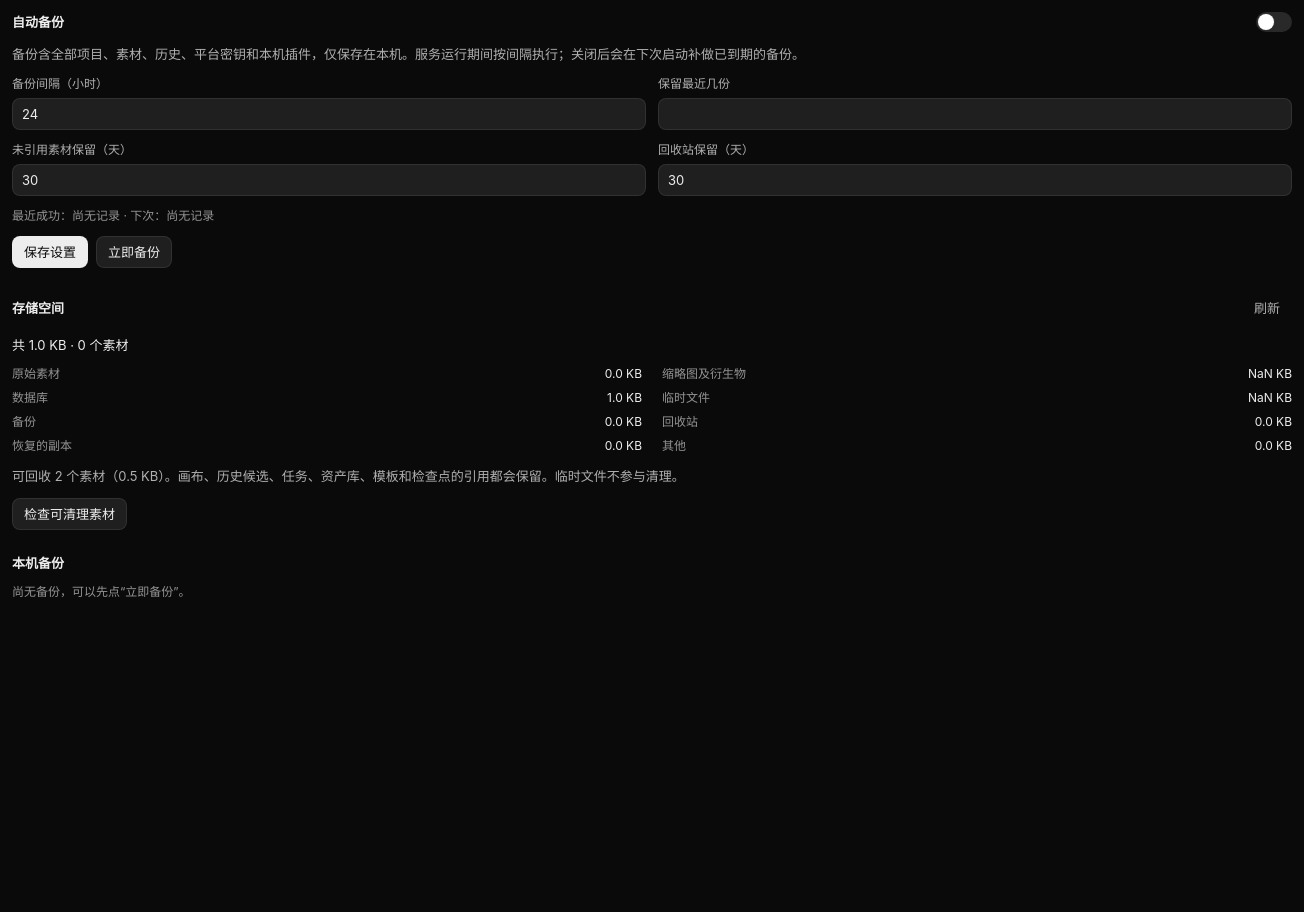
数据维护的操作反馈 › 清理失败后作废预检结果，要求重新检查
Click the button "检查可清理素材".
click(70, 514)  # box [12,498,127,530]
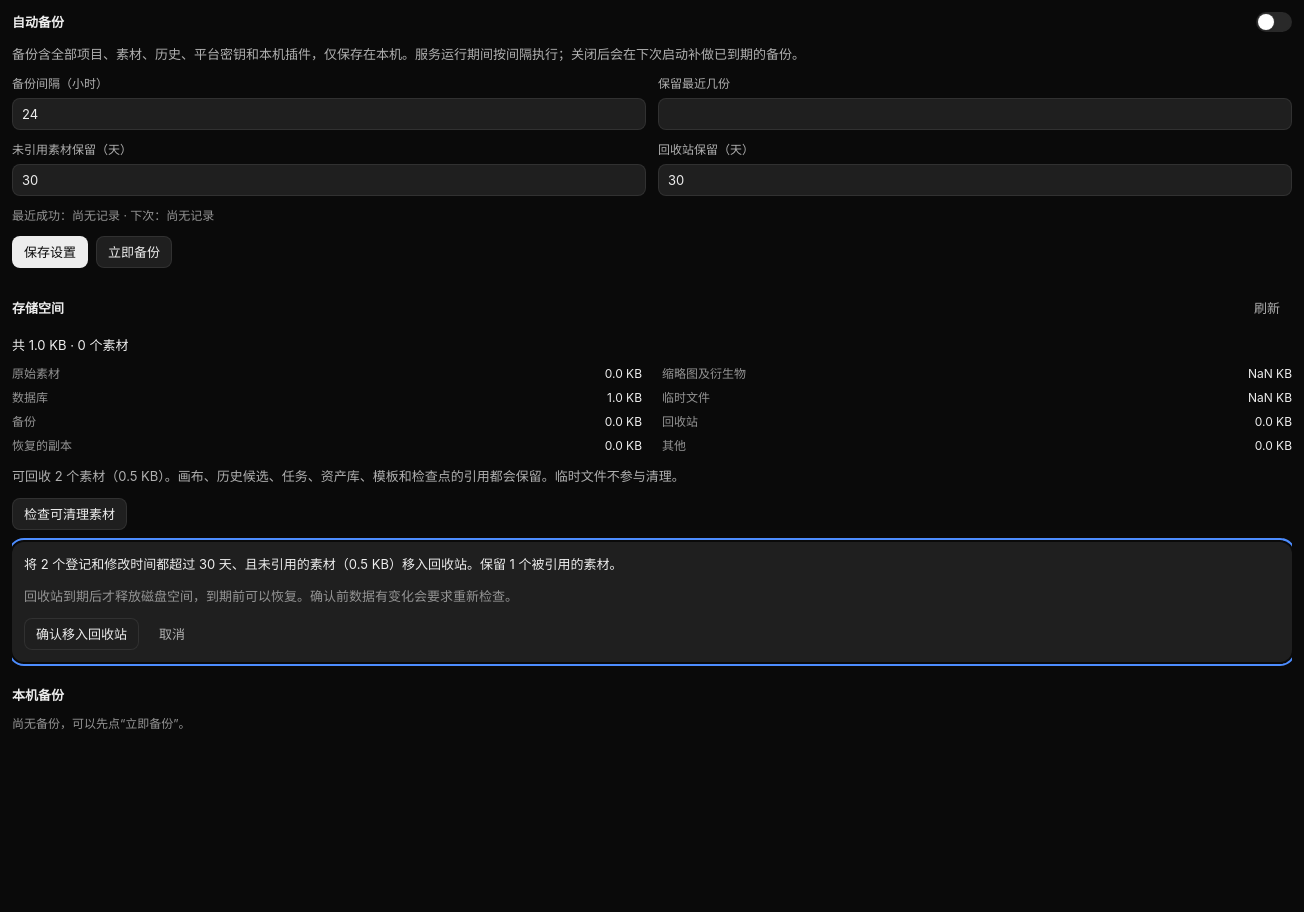
Now the element named "清理预览" is shown, box [12,542,1292,662]
Click the button "确认移入回收站".
click(82, 634)  # box [24,618,139,650]
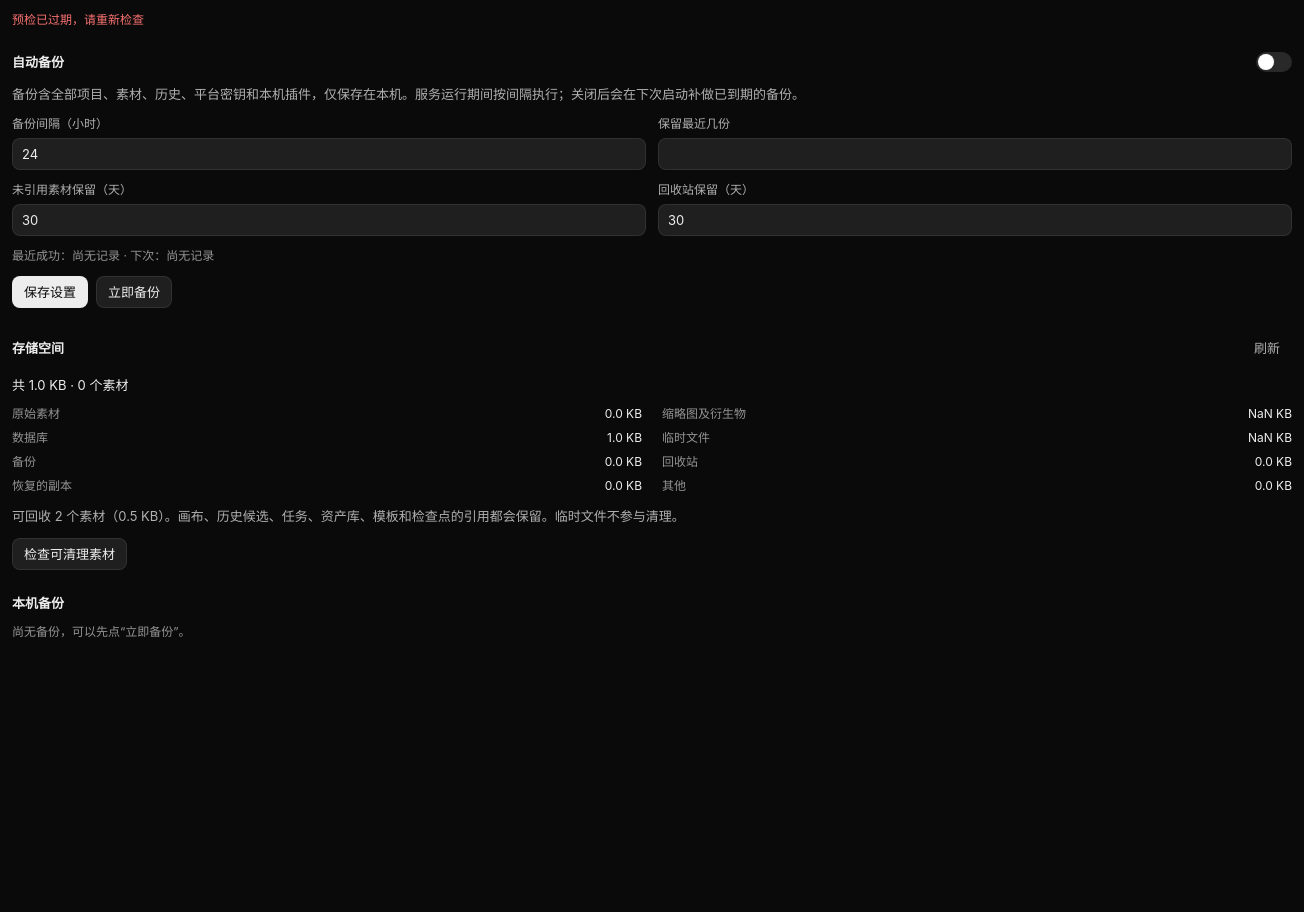
Now the message shows "预检已过期", box [12,12,144,27]
Now the element "清理预览" is gone
